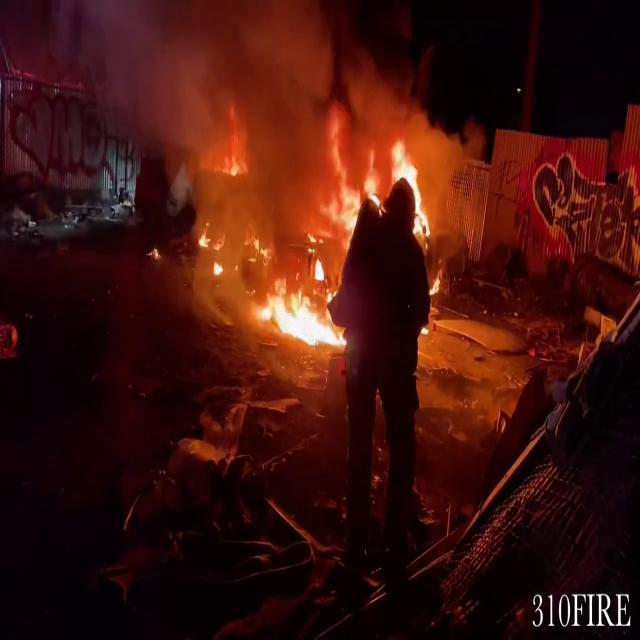Fire: (331, 132, 446, 228), (255, 268, 352, 356)
Smoke: (99, 1, 498, 282)
